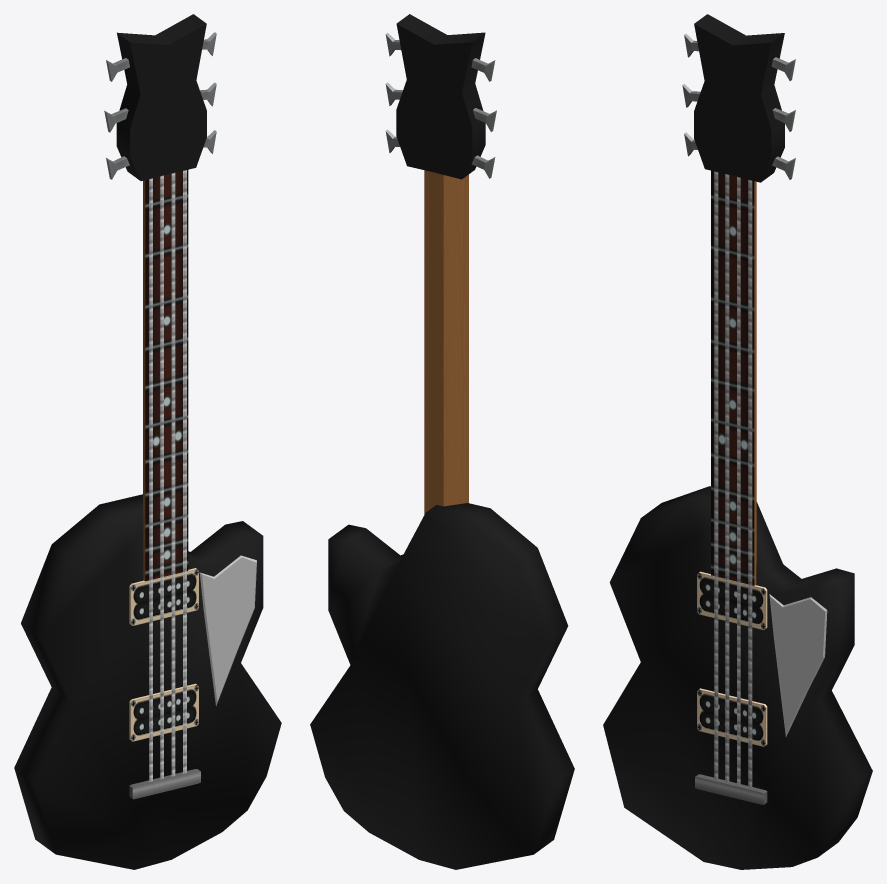
The model's file is Guitar_B.FBX.
The picture shows the model from 3 angles, left to right: view 1: azimuth 30°, elevation 25°; view 2: azimuth 150°, elevation 25°; view 3: azimuth 330°, elevation 25°; orthographic projection.
Parts seen in each view (by area): view 1: Guitar; view 2: Guitar; view 3: Guitar.
Part boxes in pixels (x1,y1,x2,y2): Guitar: (14, 14, 281, 869); Guitar: (310, 14, 574, 869); Guitar: (603, 14, 872, 869).
Bounding box in the file's own units: 64.57 × 208 × 10.83.
